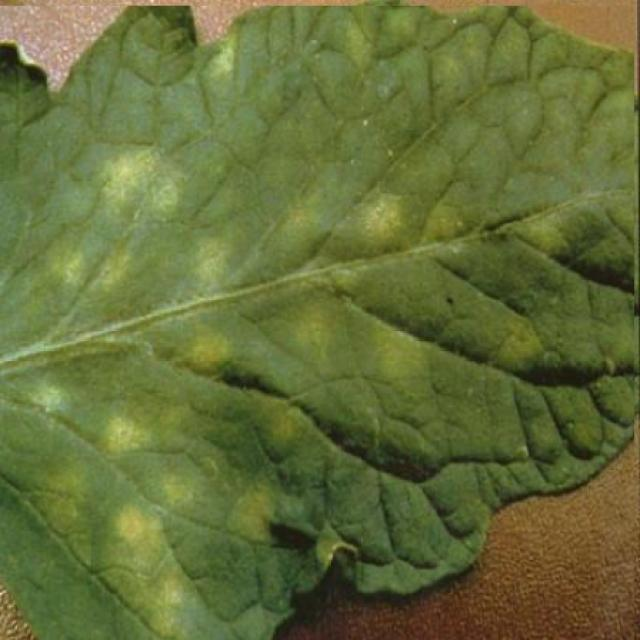Leaf Mold: (0, 5, 633, 640)
